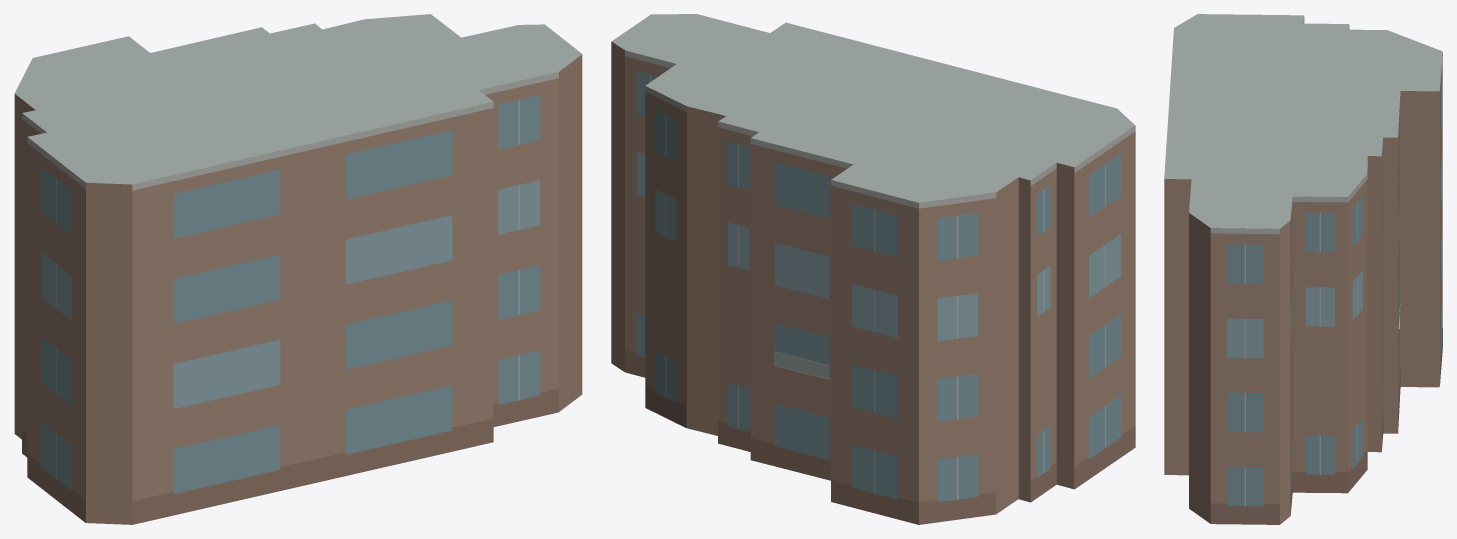
The model's file is survey-upis-32776059.glb.
3 views of the same model, side by side, from view 1: azimuth 30°, elevation 25°; view 2: azimuth 150°, elevation 25°; view 3: azimuth 270°, elevation 25° (orthographic). The views are drawn at different scales.
Parts seen in each view (by area): view 1: survey-upis-32776059.tmp; view 2: survey-upis-32776059.tmp; view 3: survey-upis-32776059.tmp.
Boxes of the visible parts, x1,y1,x2,y2 form: survey-upis-32776059.tmp: (14, 14, 582, 524); survey-upis-32776059.tmp: (611, 14, 1135, 524); survey-upis-32776059.tmp: (1164, 14, 1442, 524).
Size of the model in its own units: 20.95 by 13.45 by 11.48.
